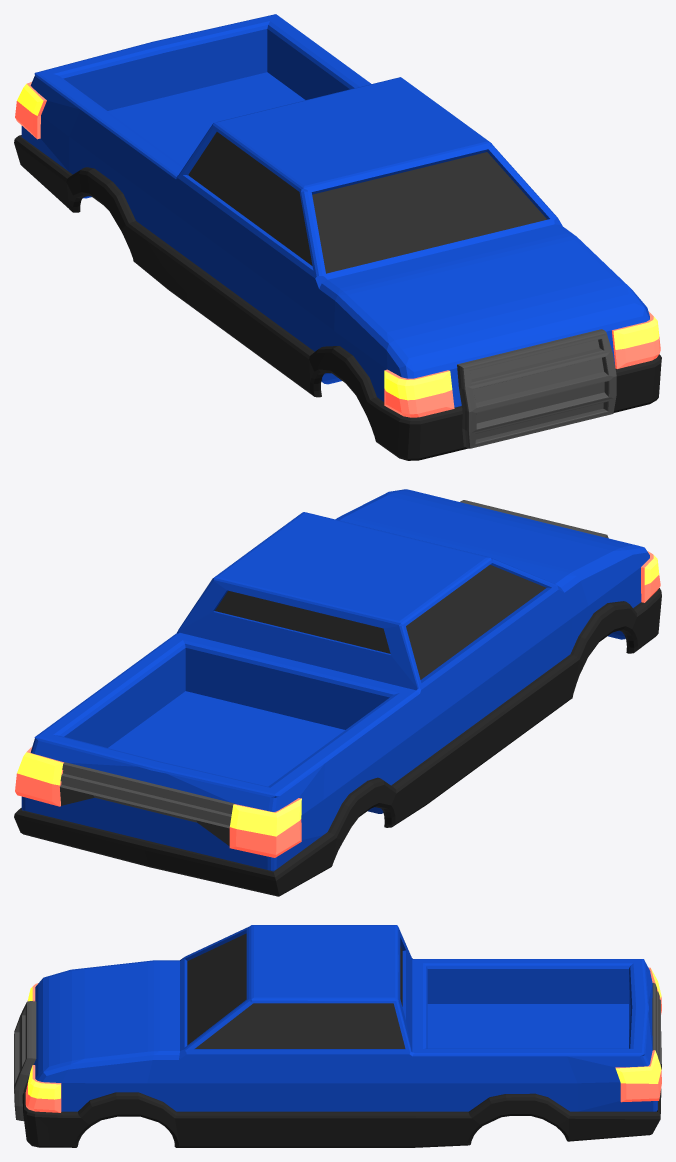
The model's file is fordtruck.fbx.
The picture shows the model from 3 angles, top to bottom: view 1: azimuth 30°, elevation 25°; view 2: azimuth 150°, elevation 25°; view 3: azimuth 270°, elevation 25°; orthographic projection. The views are drawn at different scales.
Visible parts, largest first — view 1: carbody; view 2: carbody; view 3: carbody.
Boxes of the visible parts, x1,y1,x2,y2 form: carbody: (14,14,661,460); carbody: (14,489,661,896); carbody: (14,925,661,1147).
Bounding box in the file's own units: 378 × 223 × 964.
